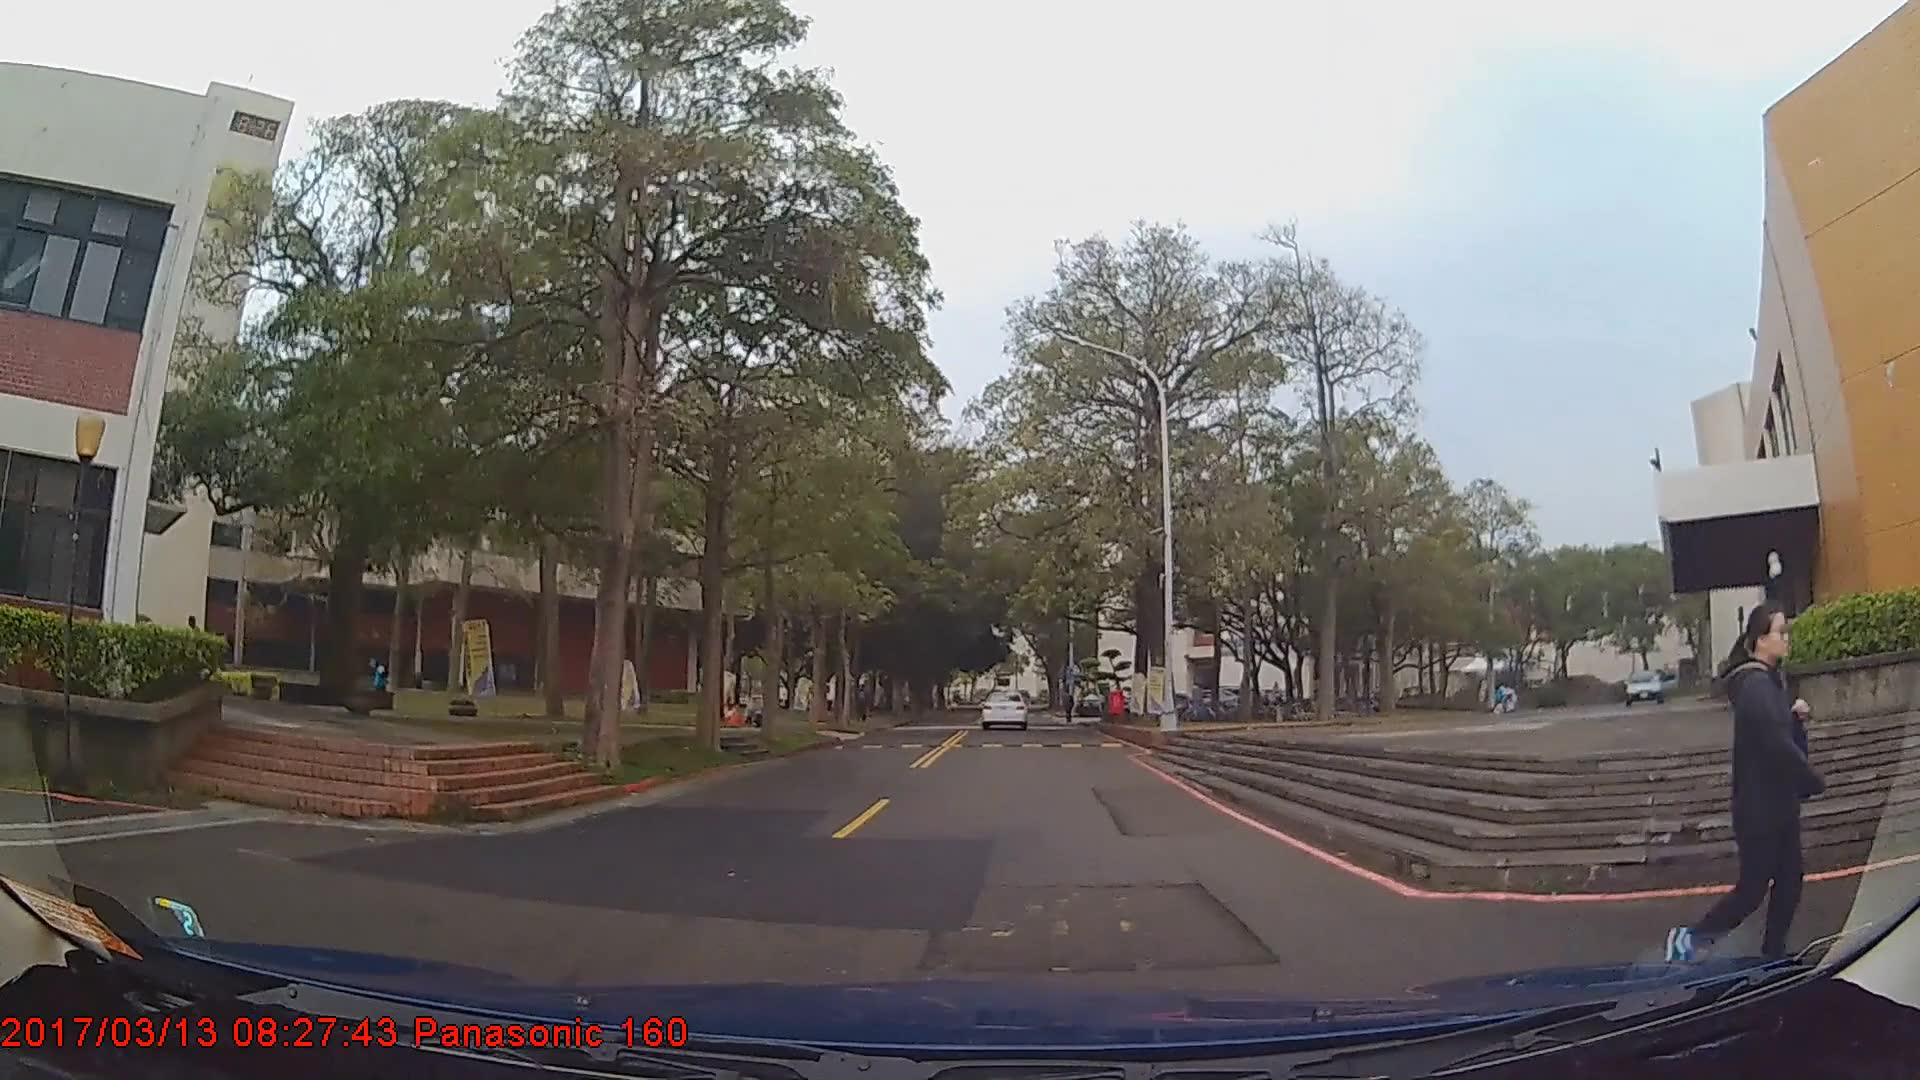pedestrian: (1658, 591, 1832, 990)
vehicle: (1619, 667, 1679, 706), (979, 684, 1027, 727)
